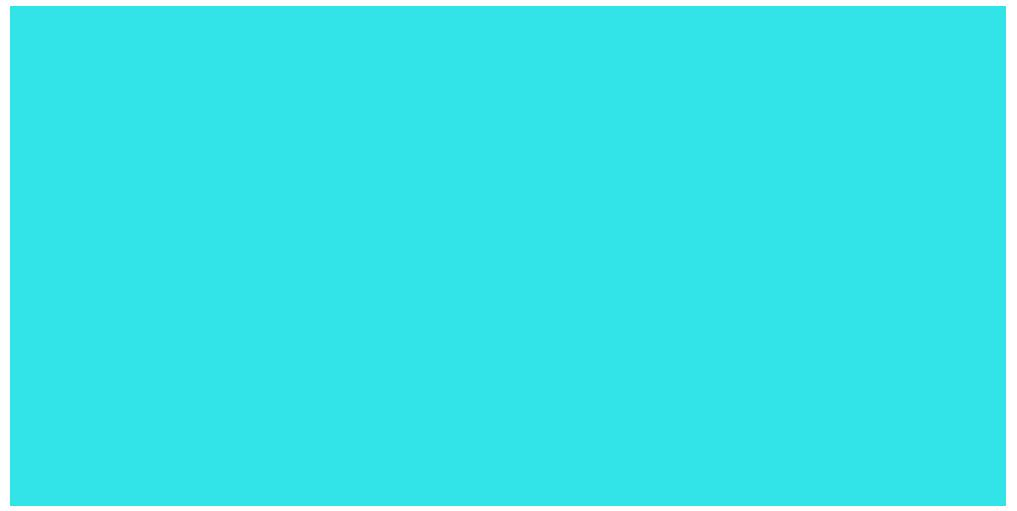cyan_zone: (12, 3, 1006, 506)
